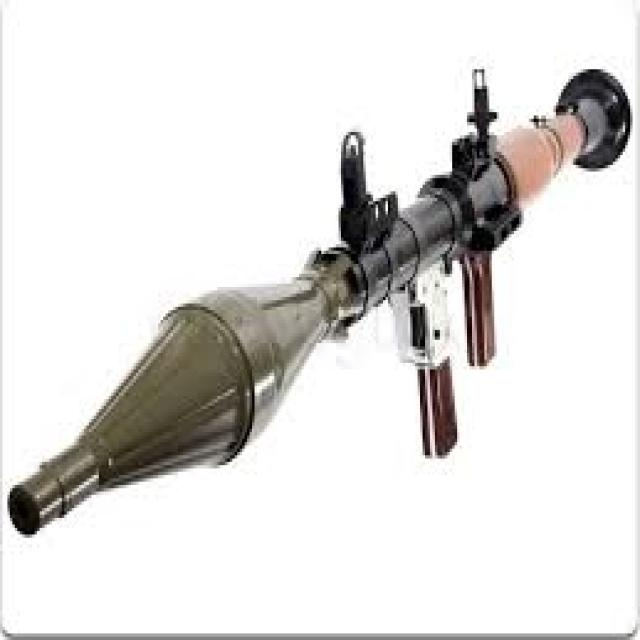bazooka: (4, 50, 639, 551)
